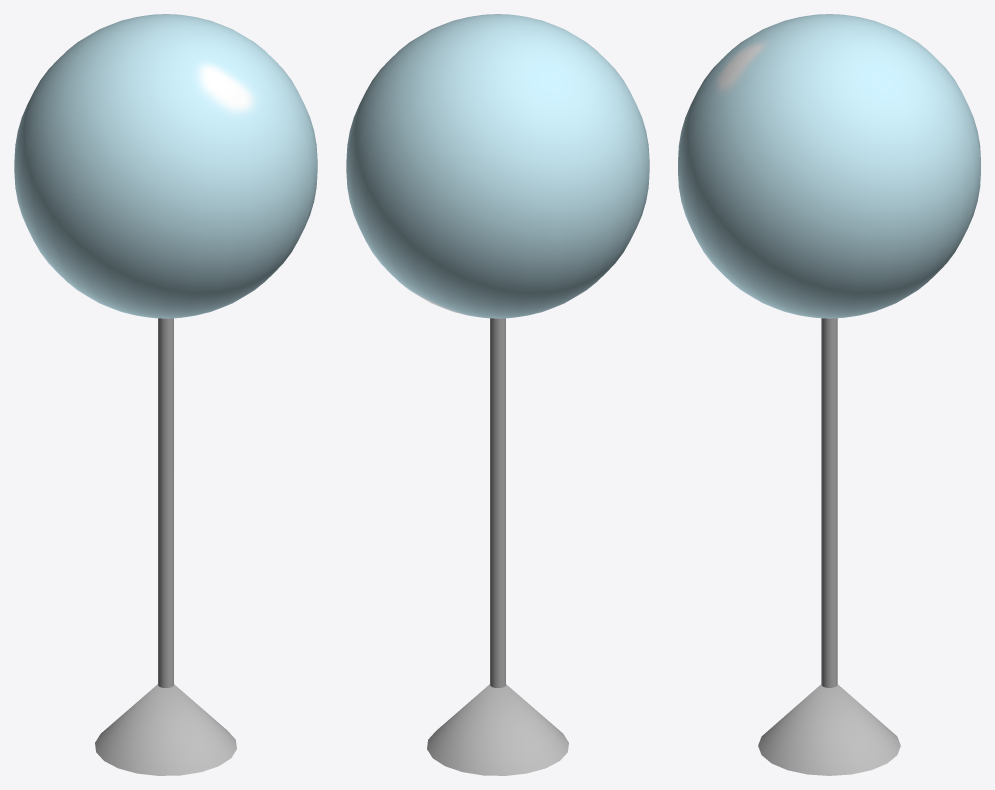
Rendered from Goal.fbx.
The picture shows the model from 3 angles, left to right: view 1: azimuth 30°, elevation 25°; view 2: azimuth 150°, elevation 25°; view 3: azimuth 270°, elevation 25°; orthographic projection.
Visible parts, largest first — view 1: pSphere8; view 2: pSphere8; view 3: pSphere8.
Part boxes in pixels (<box>): pSphere8: <box>14,14,317,775</box>; pSphere8: <box>346,14,649,775</box>; pSphere8: <box>678,14,980,775</box>.
Size of the model in its own units: 2.4 by 6.24 by 2.39.
2 materials, 1 textured.
